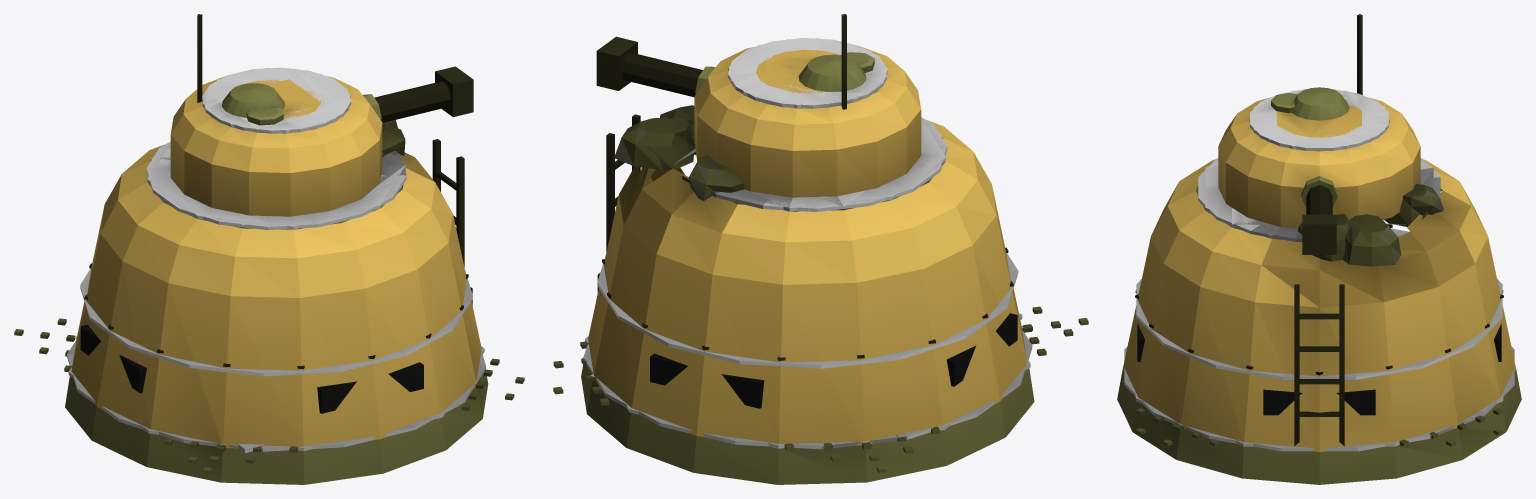
The model's file is meridian_defence_tower_damaged.glb.
The picture shows the model from 3 angles, left to right: view 1: azimuth 30°, elevation 25°; view 2: azimuth 150°, elevation 25°; view 3: azimuth 270°, elevation 25°; orthographic projection. The views are drawn at different scales.
Visible parts, largest first — view 1: body (×2), turret (×3), barrel; view 2: body (×3), turret (×3), barrel; view 3: body (×3), turret (×2), barrel.
Part boxes in pixels (x1,y1,x2,y2): body (×2): (14, 120, 524, 484); turret (×3): (170, 14, 382, 216); barrel: (363, 66, 473, 122); body (×3): (553, 105, 1088, 484); turret (×3): (694, 14, 921, 197); barrel: (596, 36, 715, 96); body (×3): (1117, 158, 1521, 484); turret (×2): (1218, 14, 1420, 228); barrel: (1301, 176, 1337, 254).
Bounding box in the file's own units: 3.63 × 3.52 × 3.6.
